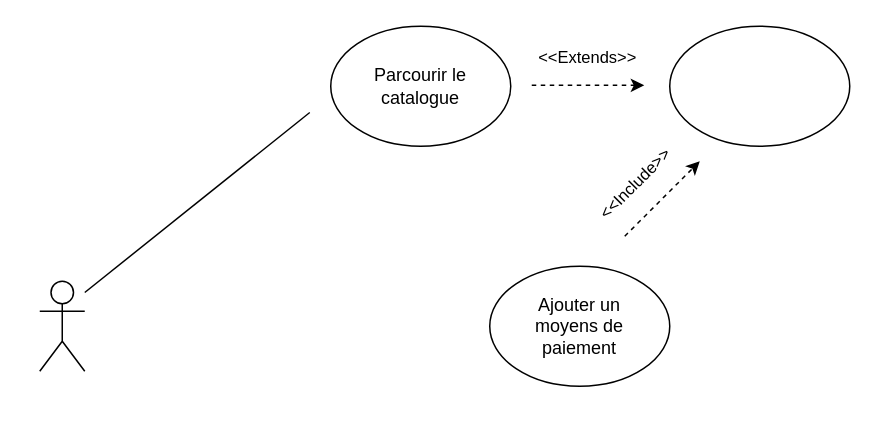
Image size: 876x429. Some labels were removed from this diagram. The shapes that lost their labels are listed below. From the top down, each one's box as (x1, y1, x2, y2) in pixels, then its label:
(668, 25, 850, 146): Commander
(38, 280, 85, 371): Acheteur
